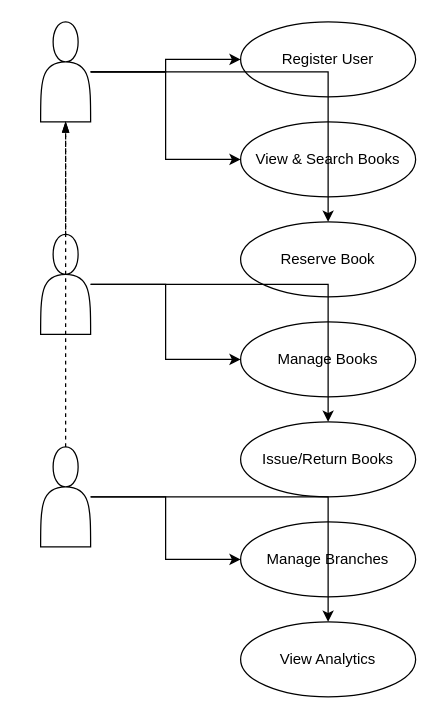
The diagram is 438 pixels wide and 719 high, and some of its shapes have lost their labels. The shapes that lost their labels are listed below. From the top down, each one's box as (x1, y1, x2, y2) in pixels, then its label:
(39, 21, 91, 122): Reader
(39, 233, 91, 334): Librarian
(39, 446, 91, 547): Administrator
